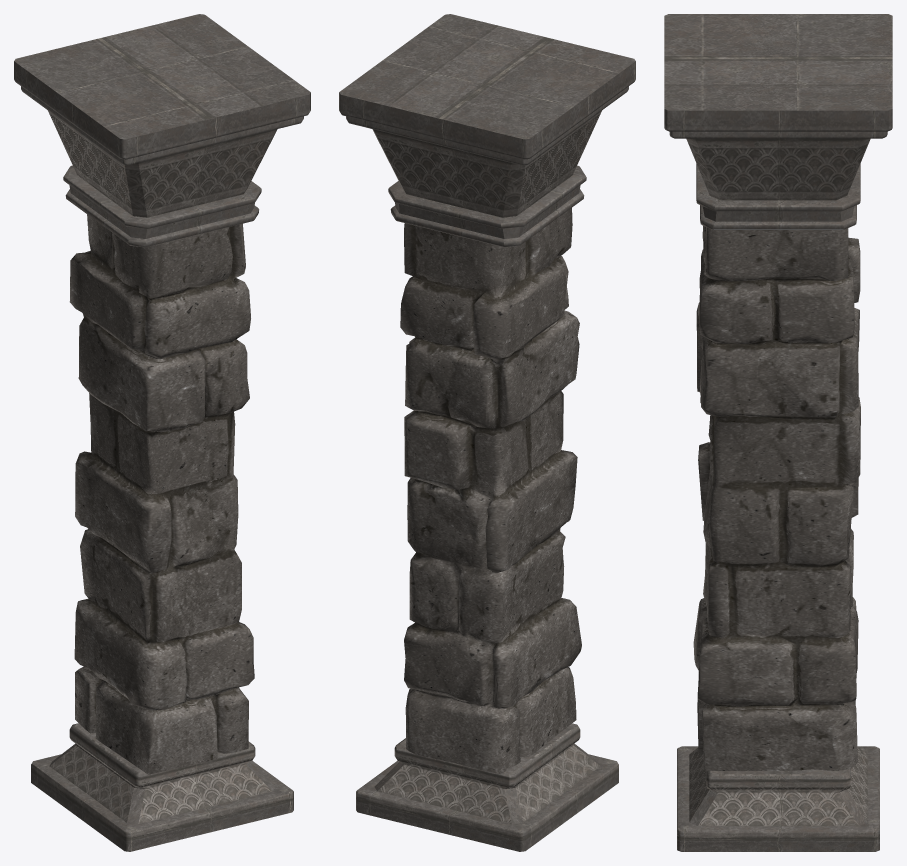
The model's file is pillar.glb.
The picture shows the model from 3 angles, left to right: view 1: azimuth 30°, elevation 25°; view 2: azimuth 150°, elevation 25°; view 3: azimuth 270°, elevation 25°; orthographic projection. The views are drawn at different scales.
Visible parts, largest first — view 1: SM_Pillar; view 2: SM_Pillar; view 3: SM_Pillar.
Part boxes in pixels (<box>): SM_Pillar: <box>14,14,310,851</box>; SM_Pillar: <box>339,14,635,851</box>; SM_Pillar: <box>664,14,892,851</box>.
Size of the model in its own units: 1.25 by 4.5 by 1.25.
1 material, 1 textured.
